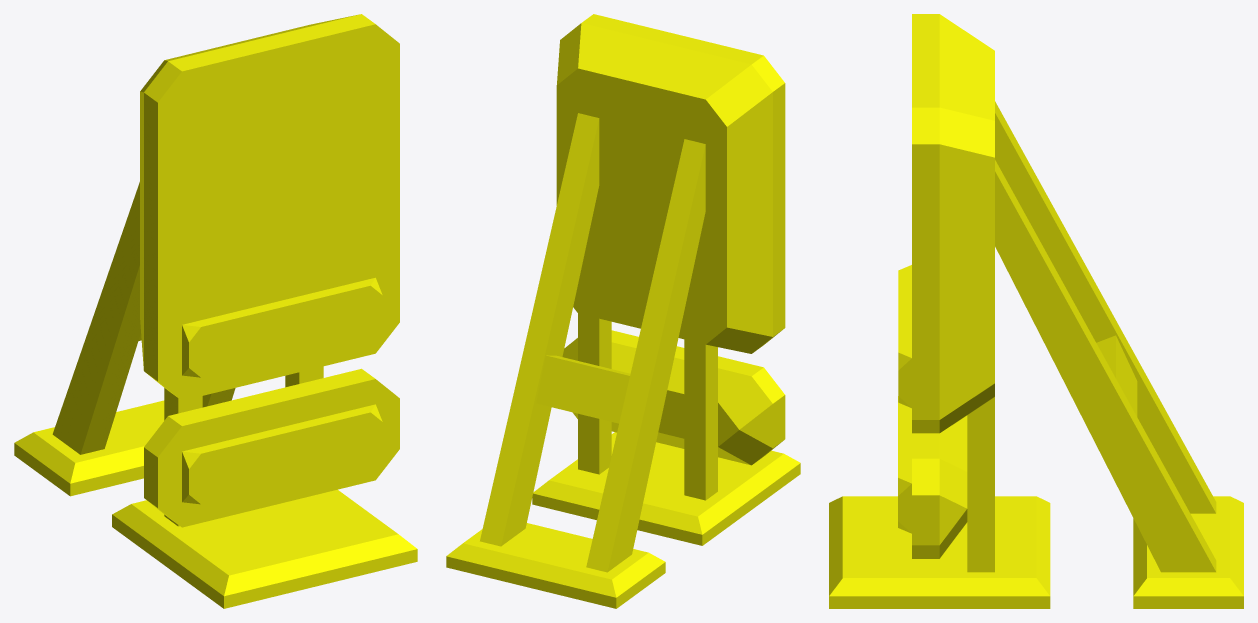
File: kaykit-target-stand-a.glb
The picture shows the model from 3 angles, left to right: view 1: azimuth 30°, elevation 25°; view 2: azimuth 150°, elevation 25°; view 3: azimuth 270°, elevation 25°; orthographic projection. The views are drawn at different scales.
Parts seen in each view (by area): view 1: target_stand_A; view 2: target_stand_A; view 3: target_stand_A.
Part boxes in pixels (left/top/right/bottom): target_stand_A: left=14, top=14, right=417, bottom=608; target_stand_A: left=446, top=14, right=800, bottom=608; target_stand_A: left=829, top=14, right=1243, bottom=608.
Bounding box in the file's own units: 0.9998 × 2 × 1.5.
